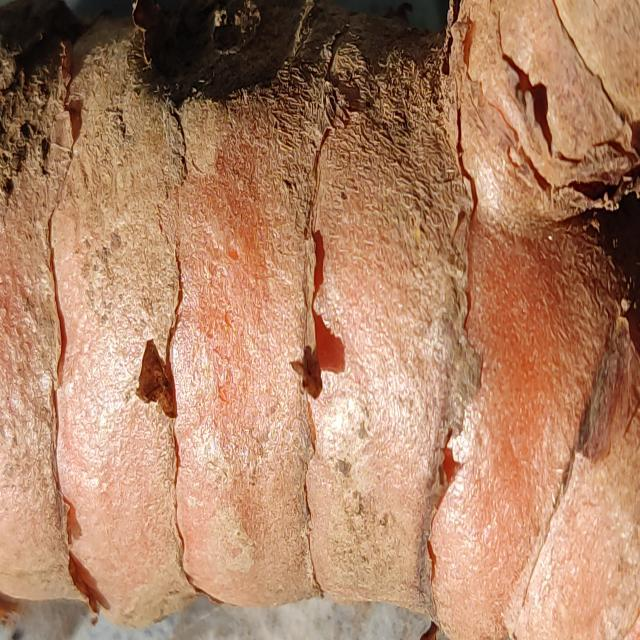ginger: (8, 19, 640, 588)
